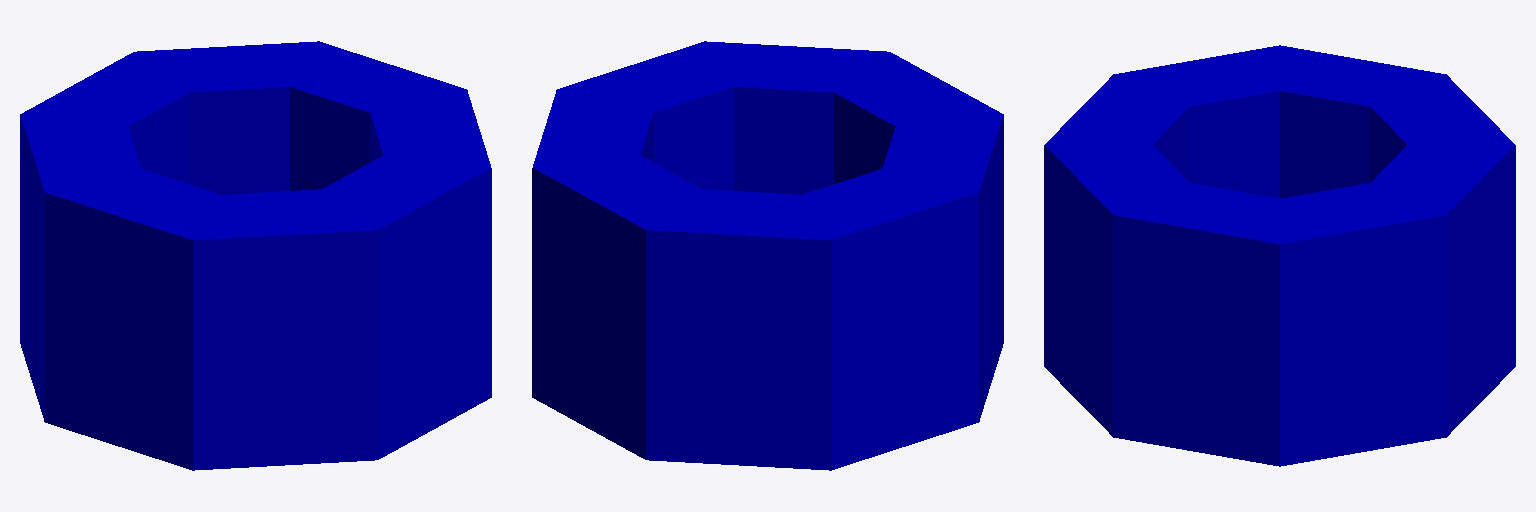
URDF robot description (box):
<?xml version="1.0" ?>
<robot name="box">
    <link name="baseLink">
        <contact>
            <lateral_friction value="0.3"/>
            <rolling_friction value="0.0"/>
            <contact_cfm value="0.0"/>
            <contact_erp value="1.0"/>
        </contact>

        <inertial>
            <origin rpy="0 0 0" xyz="0 0 0"/>
            <mass value="1"/>
            <!-- solid box : Izz=m*(x*x+y*y)/12; Ixx=m*(y*y+z*z)/12 Iyy=m*(x*x+z*z)/12 -->
            <inertia ixx="1" ixy="0" ixz="0" iyy="1" iyz="0" izz="1" />
        </inertial>
        <visual>
            <origin rpy="0 0 0" xyz="0 0 0"/>
            <geometry>
                <mesh filename="hollow_cylinder_L50R24T11H13.stl" scale="0.001 0.001 0.0005"/>
            </geometry>
            <material name="blue">
                <color rgba="0 0 0.8 1" />
            </material>
        </visual>
        <collision concave="yes">
            <origin rpy="0 0 0" xyz="0 0 0"/>
            <geometry>
                <mesh filename="hollow_cylinder_L50R24T11H13.stl" scale="0.001 0.001 0.0005"/>
            </geometry>
        </collision>
    </link>
</robot>

--- Render facts (derived) ---
3 views of the same robot in one strip: view 1: azimuth 30°, elevation 25°; view 2: azimuth 150°, elevation 25°; view 3: azimuth 270°, elevation 25° (orthographic).
Model box with 1 links and 0 joints (none), rooted at baseLink, posed all joints at 0.
Visible links, largest first — view 1: baseLink; view 2: baseLink; view 3: baseLink.
Link boxes in pixels (left/top/right/bottom): baseLink: left=20, top=41, right=491, bottom=470; baseLink: left=532, top=41, right=1003, bottom=470; baseLink: left=1044, top=45, right=1515, bottom=466.
Size in the robot's own frame: 0.048 by 0.048 by 0.025 metres.
1 mesh visuals loaded from 1 distinct referenced files (1 binary STL).